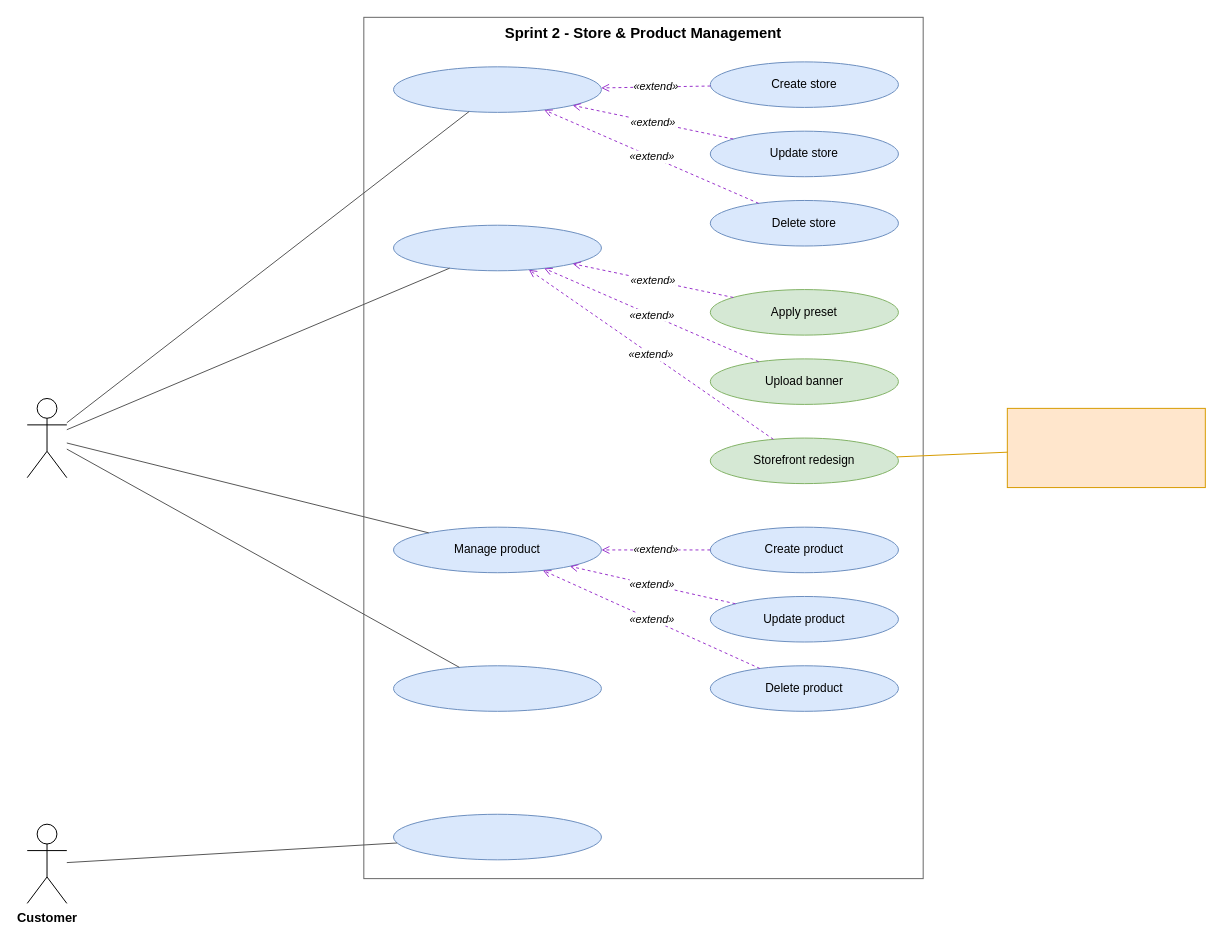
The diagram is 1223 pixels wide and 943 high, and some of its shapes have lost their labels. The box of each missing label's shape, as (x1, y1, x2, y2) in pixels:
Browse catalogue by category: (393, 813, 601, 860)
Customize storefront (WYSIWYG): (393, 224, 601, 271)
Manage store: (393, 66, 601, 112)
Run store-wide sale: (393, 665, 601, 711)
Seller: (26, 397, 67, 478)
«system» AI service storefront redesign: (1006, 407, 1205, 488)
